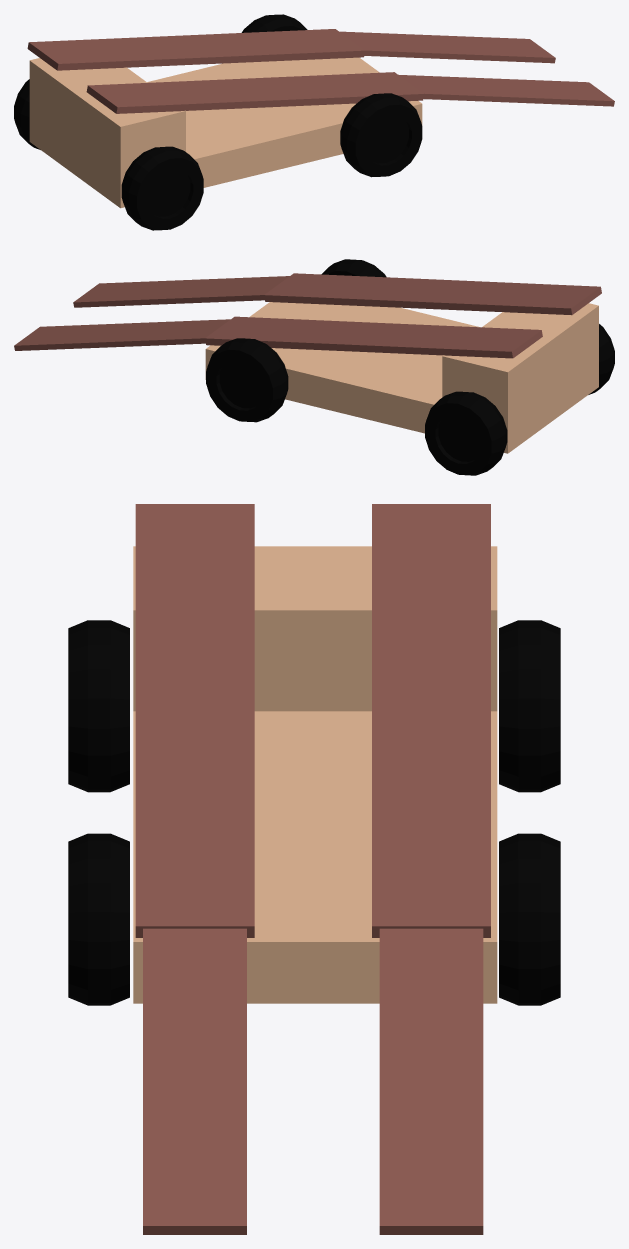
The model's file is generic_ramp.fbx.
The picture shows the model from 3 angles, top to bottom: view 1: azimuth 30°, elevation 25°; view 2: azimuth 150°, elevation 25°; view 3: azimuth 270°, elevation 25°; orthographic projection. The views are drawn at different scales.
Parts seen in each view (by area): view 1: Cylinder.002; view 2: Cylinder.002; view 3: Cylinder.002.
Part boxes in pixels (x1=…): Cylinder.002: x1=14, y1=14, x2=614, y2=230; Cylinder.002: x1=14, y1=259, x2=614, y2=475; Cylinder.002: x1=68, y1=504, x2=560, y2=1234.
Bounding box in the file's own units: 1761 × 412 × 750.
